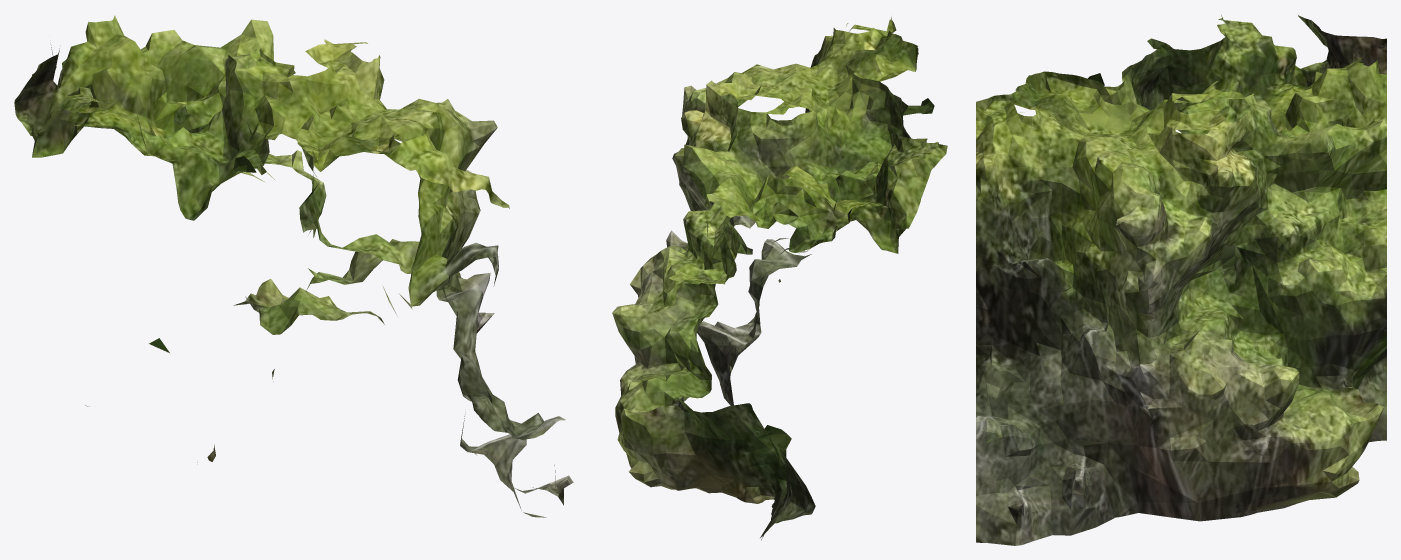
3 renders of one model, left to right at view 1: azimuth 30°, elevation 25°; view 2: azimuth 150°, elevation 25°; view 3: azimuth 270°, elevation 25°, orthographic. The views are drawn at different scales.
Size of the model in its own units: 5.57 by 5.9 by 5.9.
Materials: 5 (5 with a texture image).
